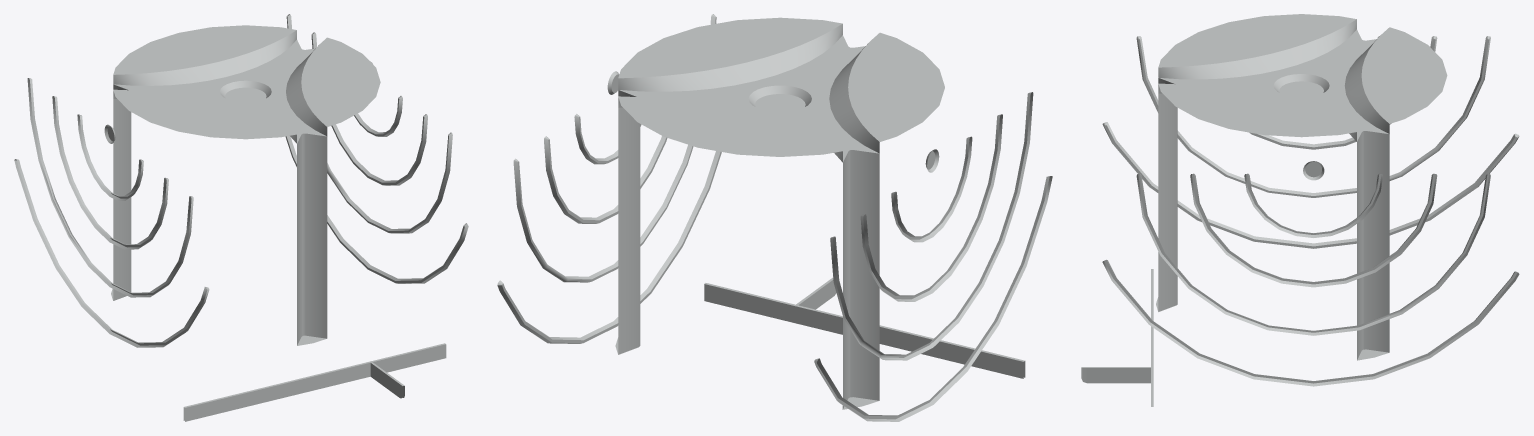
File: MeshWashingMachine_2_0_GeomSubset_0.obj
3 views of the same model, side by side, from view 1: azimuth 30°, elevation 25°; view 2: azimuth 150°, elevation 25°; view 3: azimuth 270°, elevation 25° (orthographic). The views are drawn at different scales.
Parts seen in each view (by area): view 1: MeshWashingMachine_2_0_GeomSubset_0; view 2: MeshWashingMachine_2_0_GeomSubset_0; view 3: MeshWashingMachine_2_0_GeomSubset_0.
Boxes of the visible parts, x1,y1,x2,y2 form: MeshWashingMachine_2_0_GeomSubset_0: (14,14,468,421); MeshWashingMachine_2_0_GeomSubset_0: (497,14,1052,421); MeshWashingMachine_2_0_GeomSubset_0: (1081,14,1519,406).
Bounding box in the file's own units: 0.6871 × 0.645 × 0.923.
